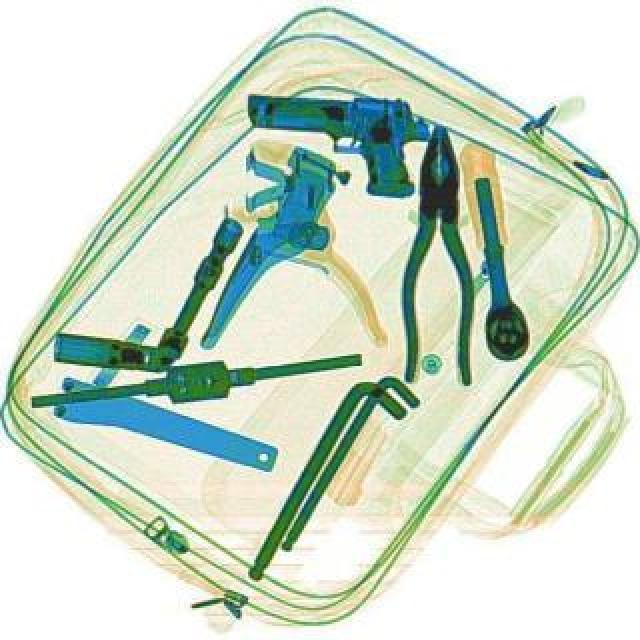gun: (236, 86, 432, 198)
wrench: (400, 122, 474, 384)
